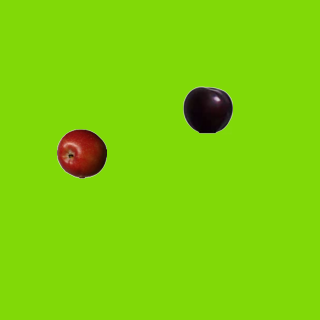Apple Braeburn: (56, 128, 106, 178)
Cherry Wax Black: (182, 84, 232, 134)
